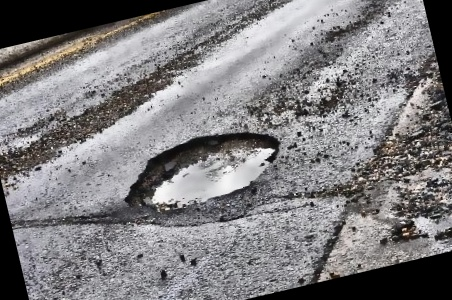pothole: (111, 116, 292, 221)
